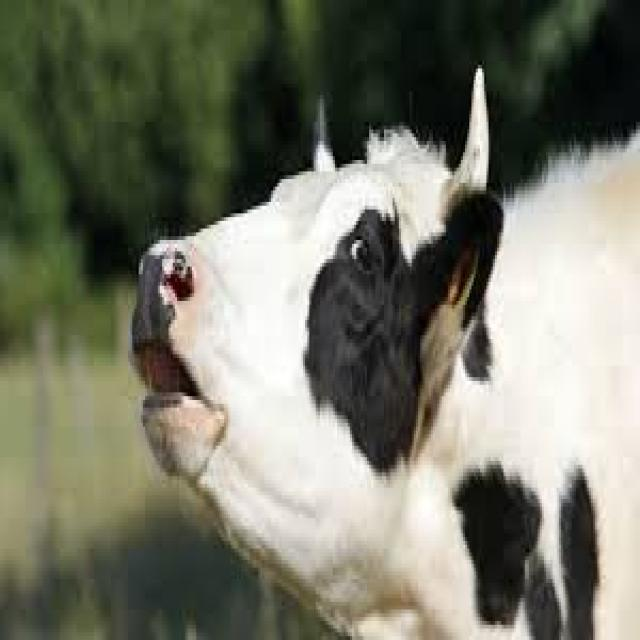cow: (132, 69, 640, 636)
